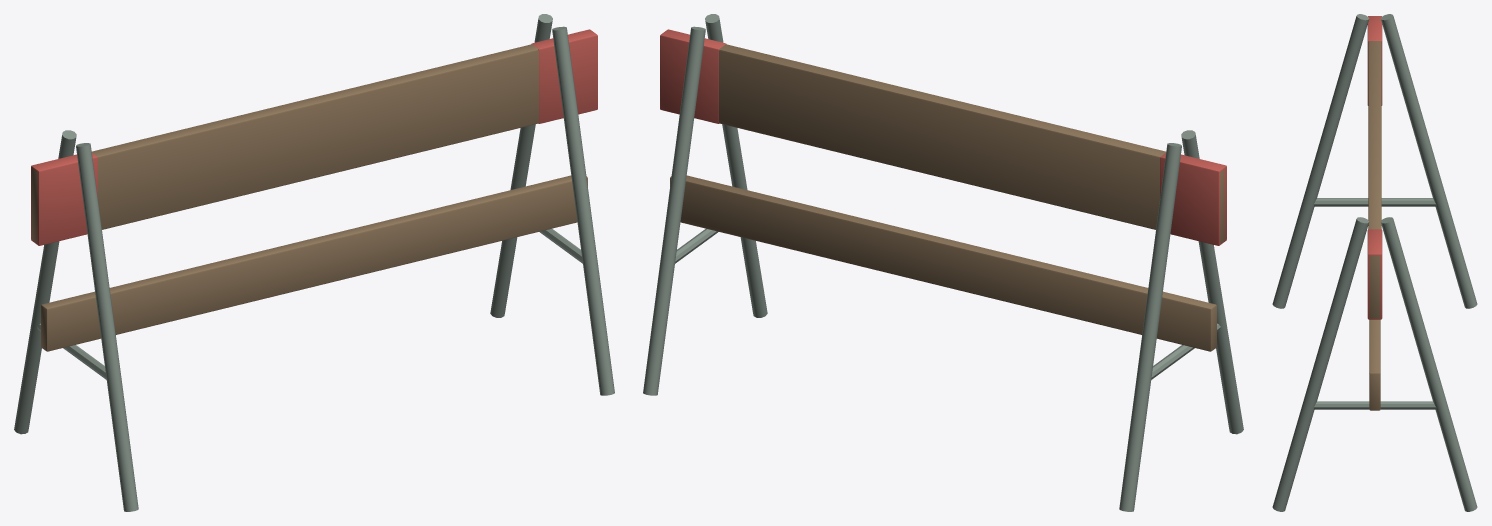
File: CTCC_ENV_StairwellBarrier.fbx
The picture shows the model from 3 angles, left to right: view 1: azimuth 30°, elevation 25°; view 2: azimuth 150°, elevation 25°; view 3: azimuth 270°, elevation 25°; orthographic projection. The views are drawn at different scales.
Parts seen in each view (by area): view 1: CTCC_ENV_StairwellBarrier_LOD0; view 2: CTCC_ENV_StairwellBarrier_LOD0; view 3: CTCC_ENV_StairwellBarrier_LOD0.
Boxes of the visible parts, x1,y1,x2,y2 form: CTCC_ENV_StairwellBarrier_LOD0: (14, 14, 614, 511); CTCC_ENV_StairwellBarrier_LOD0: (643, 14, 1243, 511); CTCC_ENV_StairwellBarrier_LOD0: (1272, 14, 1477, 511).
Size of what is drawn, in the model's own units: 1.88 by 1.07 by 0.6825.
